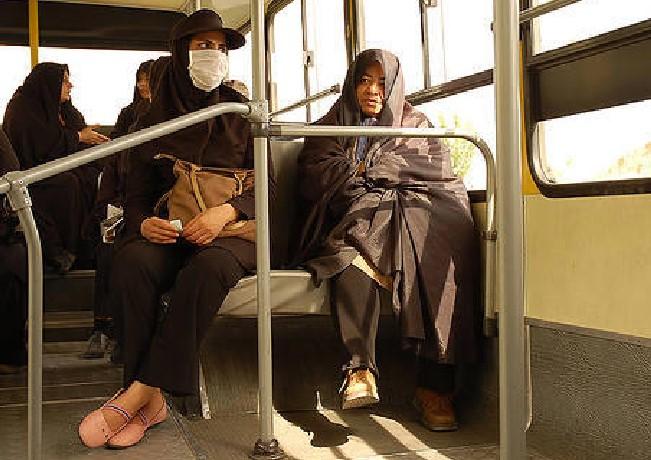face_no_mask: (345, 55, 396, 118)
face_with_mask: (172, 15, 234, 99)
